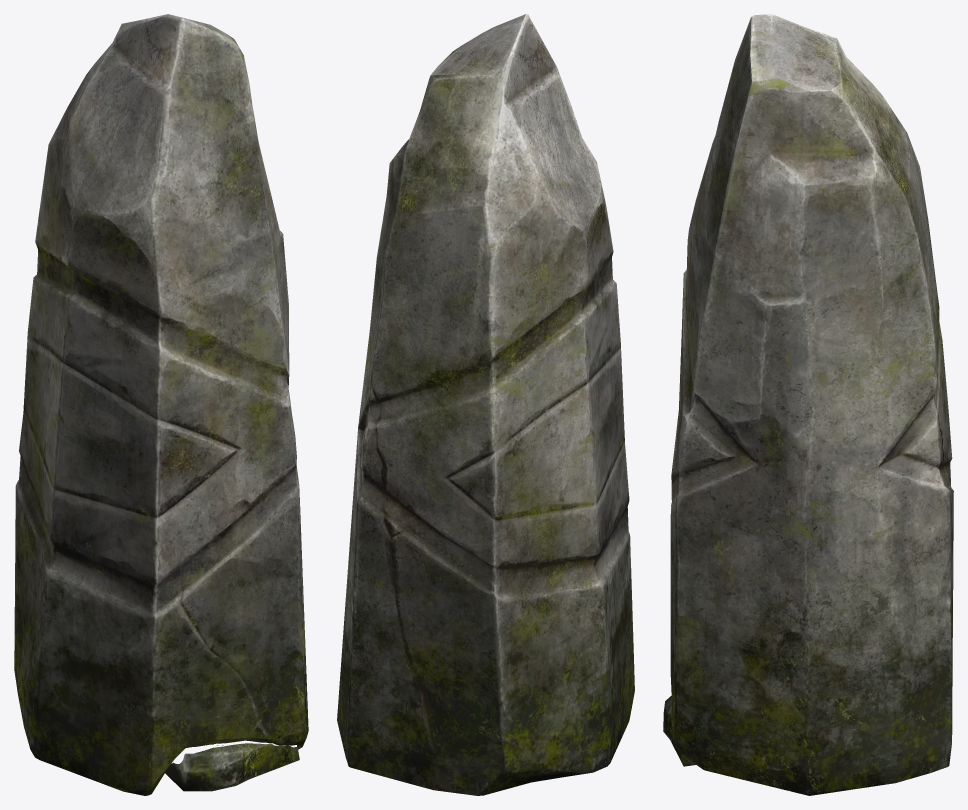
3 renders of one model, left to right at view 1: azimuth 30°, elevation 25°; view 2: azimuth 150°, elevation 25°; view 3: azimuth 270°, elevation 25°, orthographic. The views are drawn at different scales.
Visible parts, largest first — view 1: SM_Waypoint_01_v2_LOD0; view 2: SM_Waypoint_01_v2_LOD0; view 3: SM_Waypoint_01_v2_LOD0.
Part boxes in pixels (left/top/right/bottom): SM_Waypoint_01_v2_LOD0: left=14, top=14, right=308, bottom=795; SM_Waypoint_01_v2_LOD0: left=337, top=14, right=634, bottom=795; SM_Waypoint_01_v2_LOD0: left=663, top=14, right=953, bottom=795.
Bounding box in the file's own units: 1.38 × 3.7 × 1.36.
Materials: 1 (1 with a texture image).
